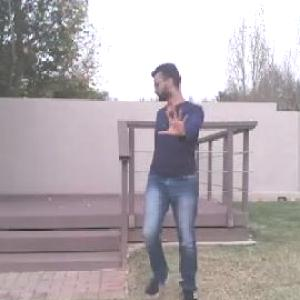follow_hand: (156, 101, 191, 140)
